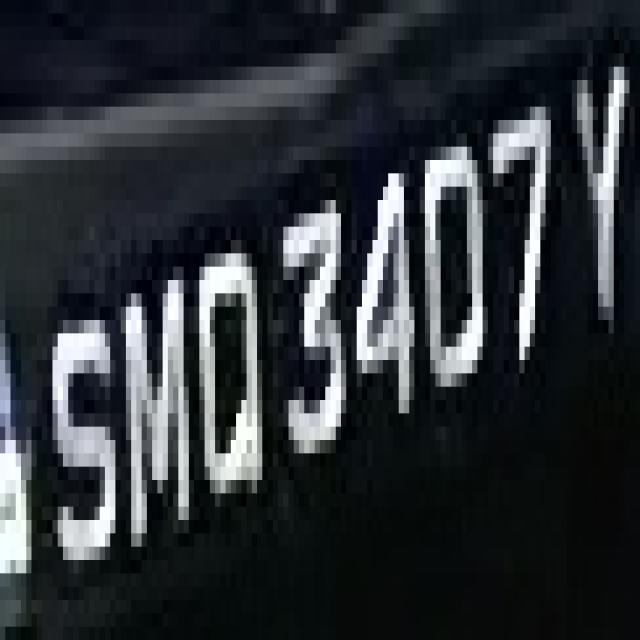0: (399, 106, 488, 426)
3: (268, 160, 356, 467)
4: (336, 160, 414, 427)
7: (478, 80, 562, 373)
M: (121, 226, 199, 546)
Q: (184, 240, 272, 507)
S: (42, 293, 126, 587)
Y: (566, 26, 640, 360)
